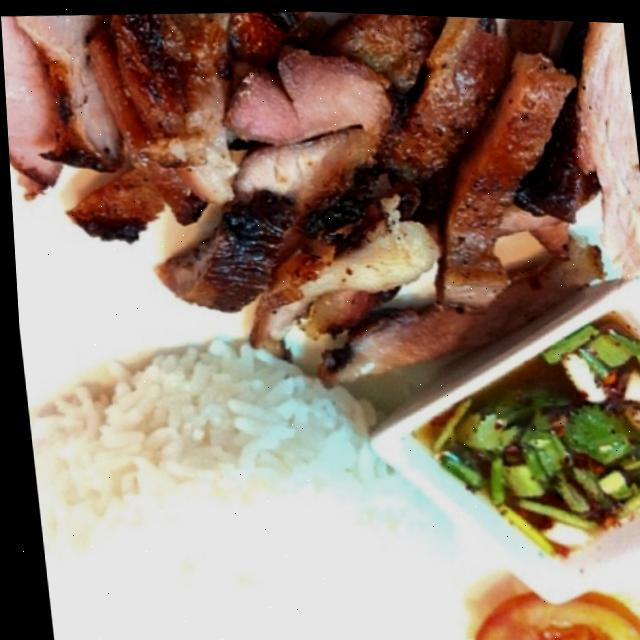猪肉菜式: (2, 0, 640, 632)
